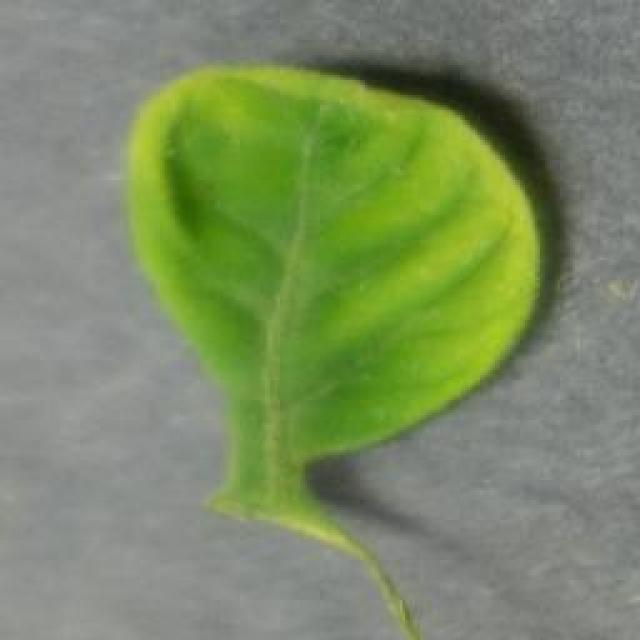Tomato yellow virus leaf: (125, 61, 547, 456)
